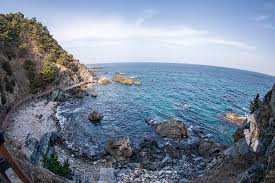mountain: (1, 14, 93, 95), (218, 93, 275, 177)
sea: (63, 64, 271, 151)
sky: (74, 4, 275, 65)
